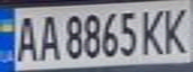5: (118, 7, 142, 56)
6: (100, 8, 121, 59)
8: (60, 10, 84, 61), (81, 10, 103, 60)
A: (9, 11, 39, 63), (33, 11, 60, 62)
K: (157, 3, 193, 55), (136, 4, 169, 55)
